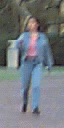person: (16, 16, 47, 114)
